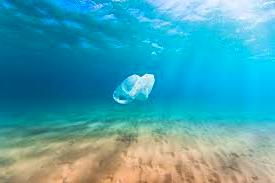Trash: (101, 58, 160, 111)
